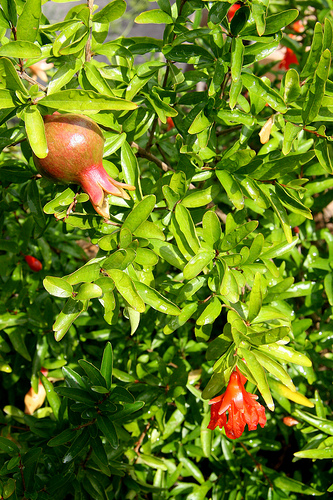pomogranate: (35, 111, 135, 220)
